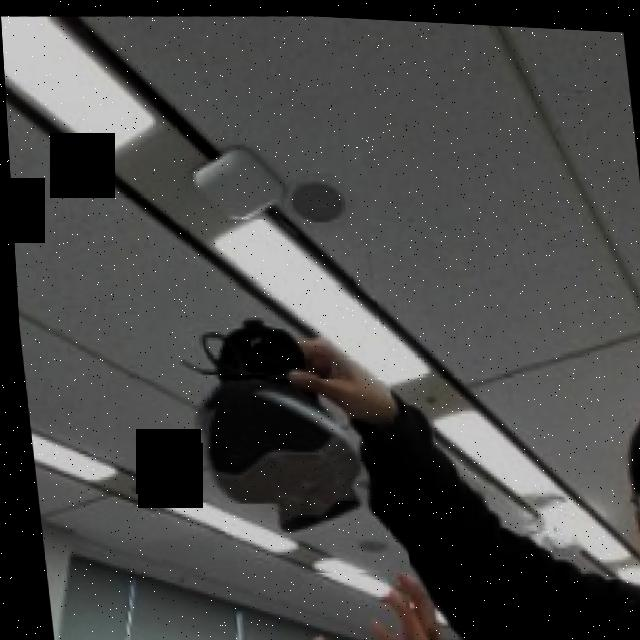shoe: (117, 269, 405, 582)
